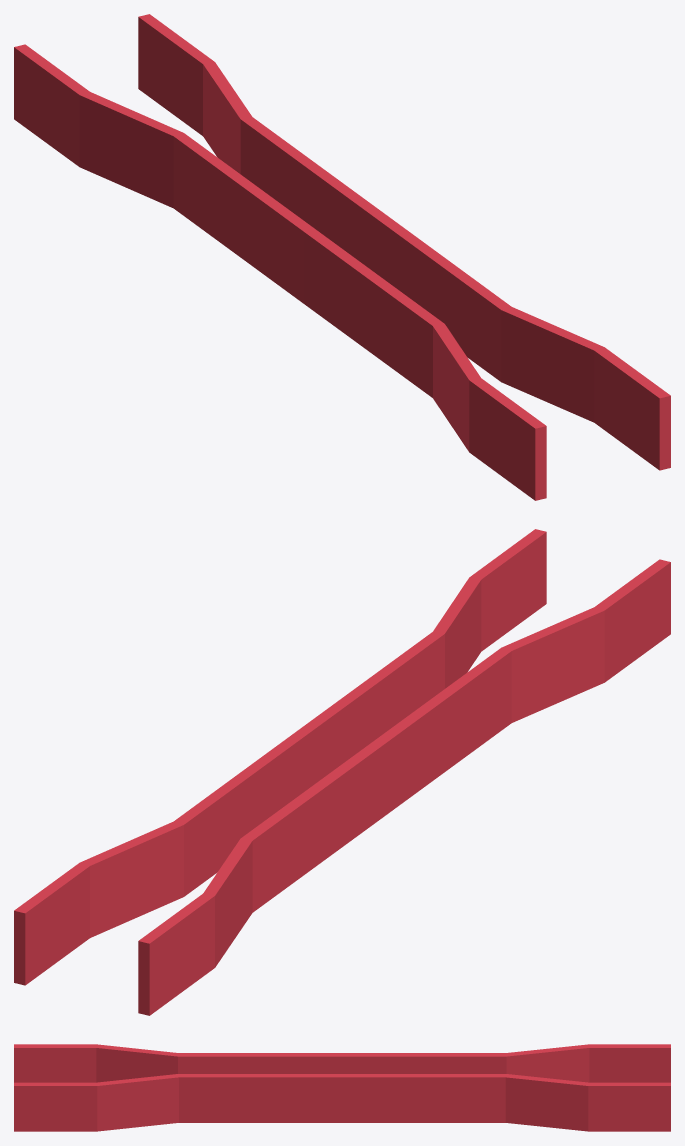
Rendered from narrow_collision.fbx.
The picture shows the model from 3 angles, top to bottom: view 1: azimuth 30°, elevation 25°; view 2: azimuth 150°, elevation 25°; view 3: azimuth 270°, elevation 25°; orthographic projection. The views are drawn at different scales.
Visible parts, largest first — view 1: narrow_collision; view 2: narrow_collision; view 3: narrow_collision.
Part boxes in pixels (<box>): narrow_collision: <box>14,14,670,500</box>; narrow_collision: <box>14,529,670,1015</box>; narrow_collision: <box>14,1044,670,1131</box>.
Size of the model in its own units: 1200 by 611 by 7991.
